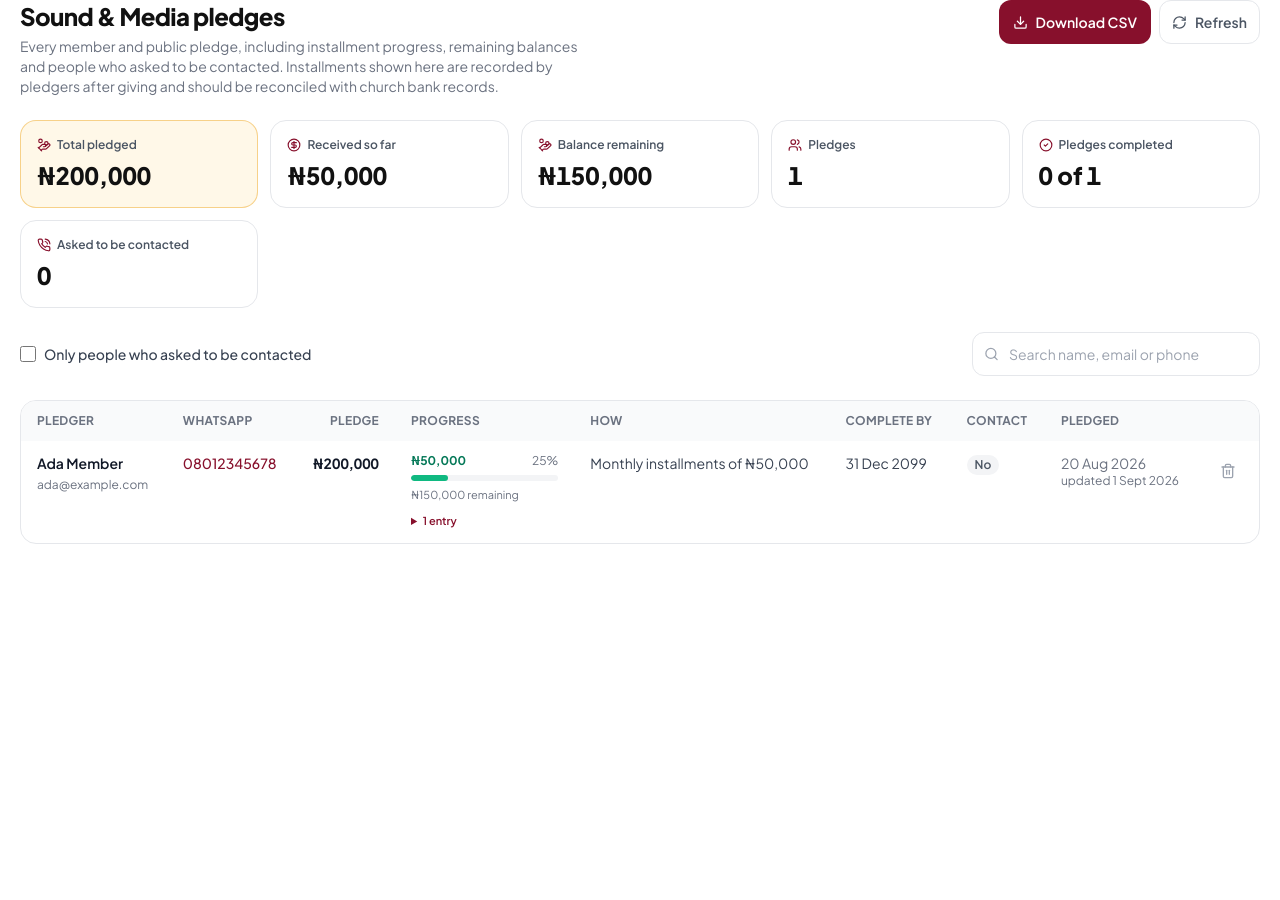
Test: removing a pledge from the admin list › does nothing when the leader changes their mind
This screenshot has width=1280, height=900.
Click the button named "Remove Ada Member's pledge": x=1228, y=471 top-left (1206, 449), bottom-right (1250, 493)
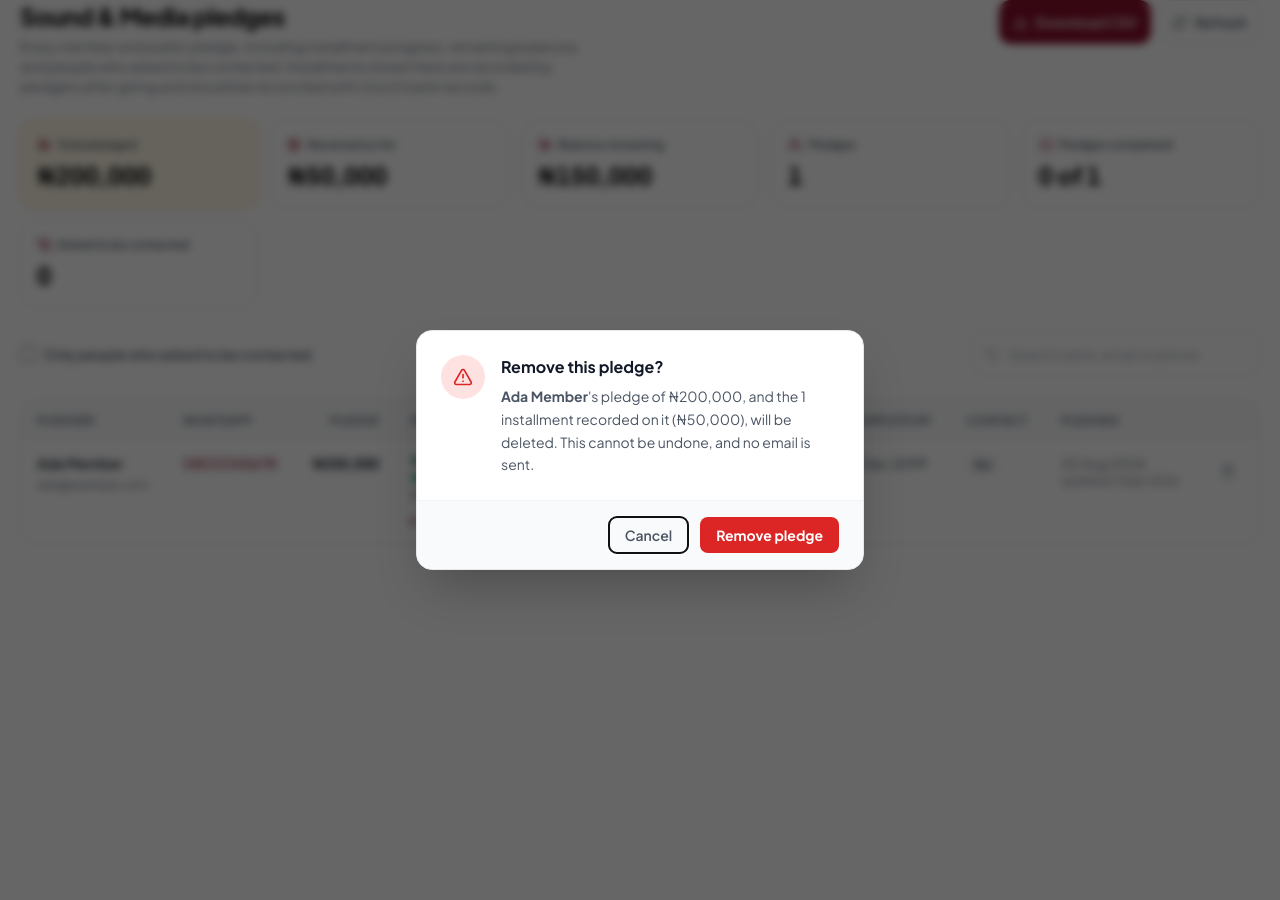
Click the button "Cancel": x=648, y=535 top-left (609, 517), bottom-right (688, 553)
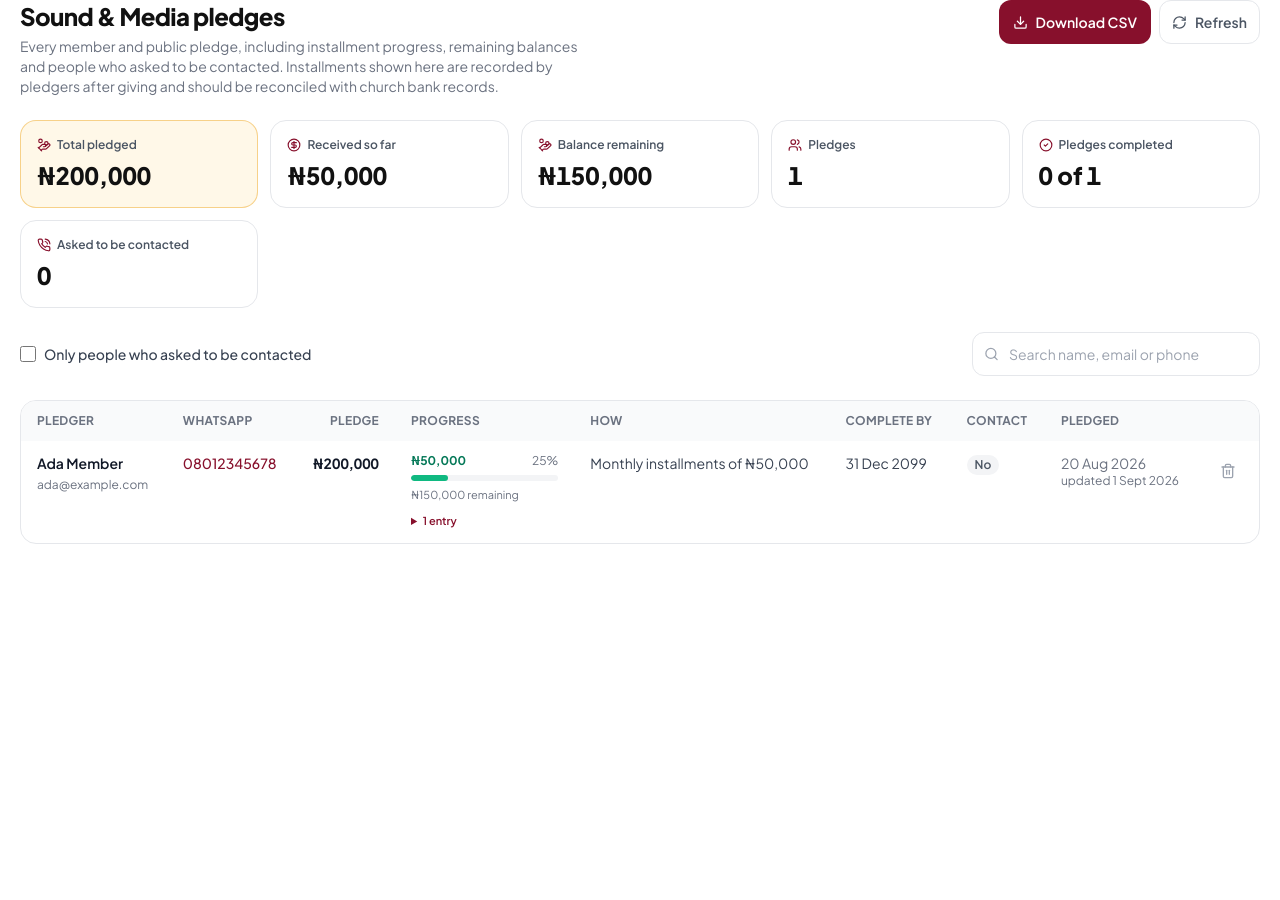
Now the dialog is gone
